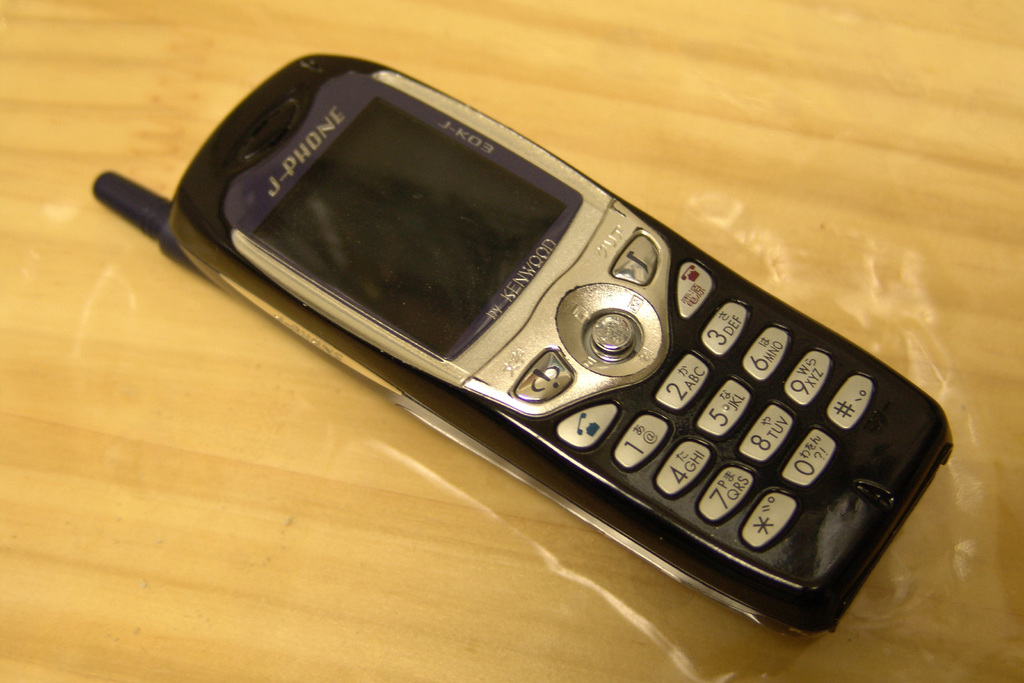mobile phone: (121, 51, 926, 643)
